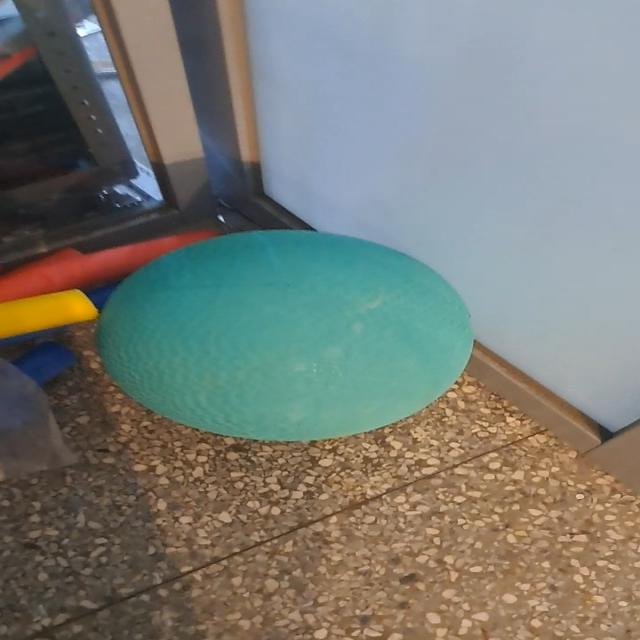ALGAE: (90, 225, 480, 448)
